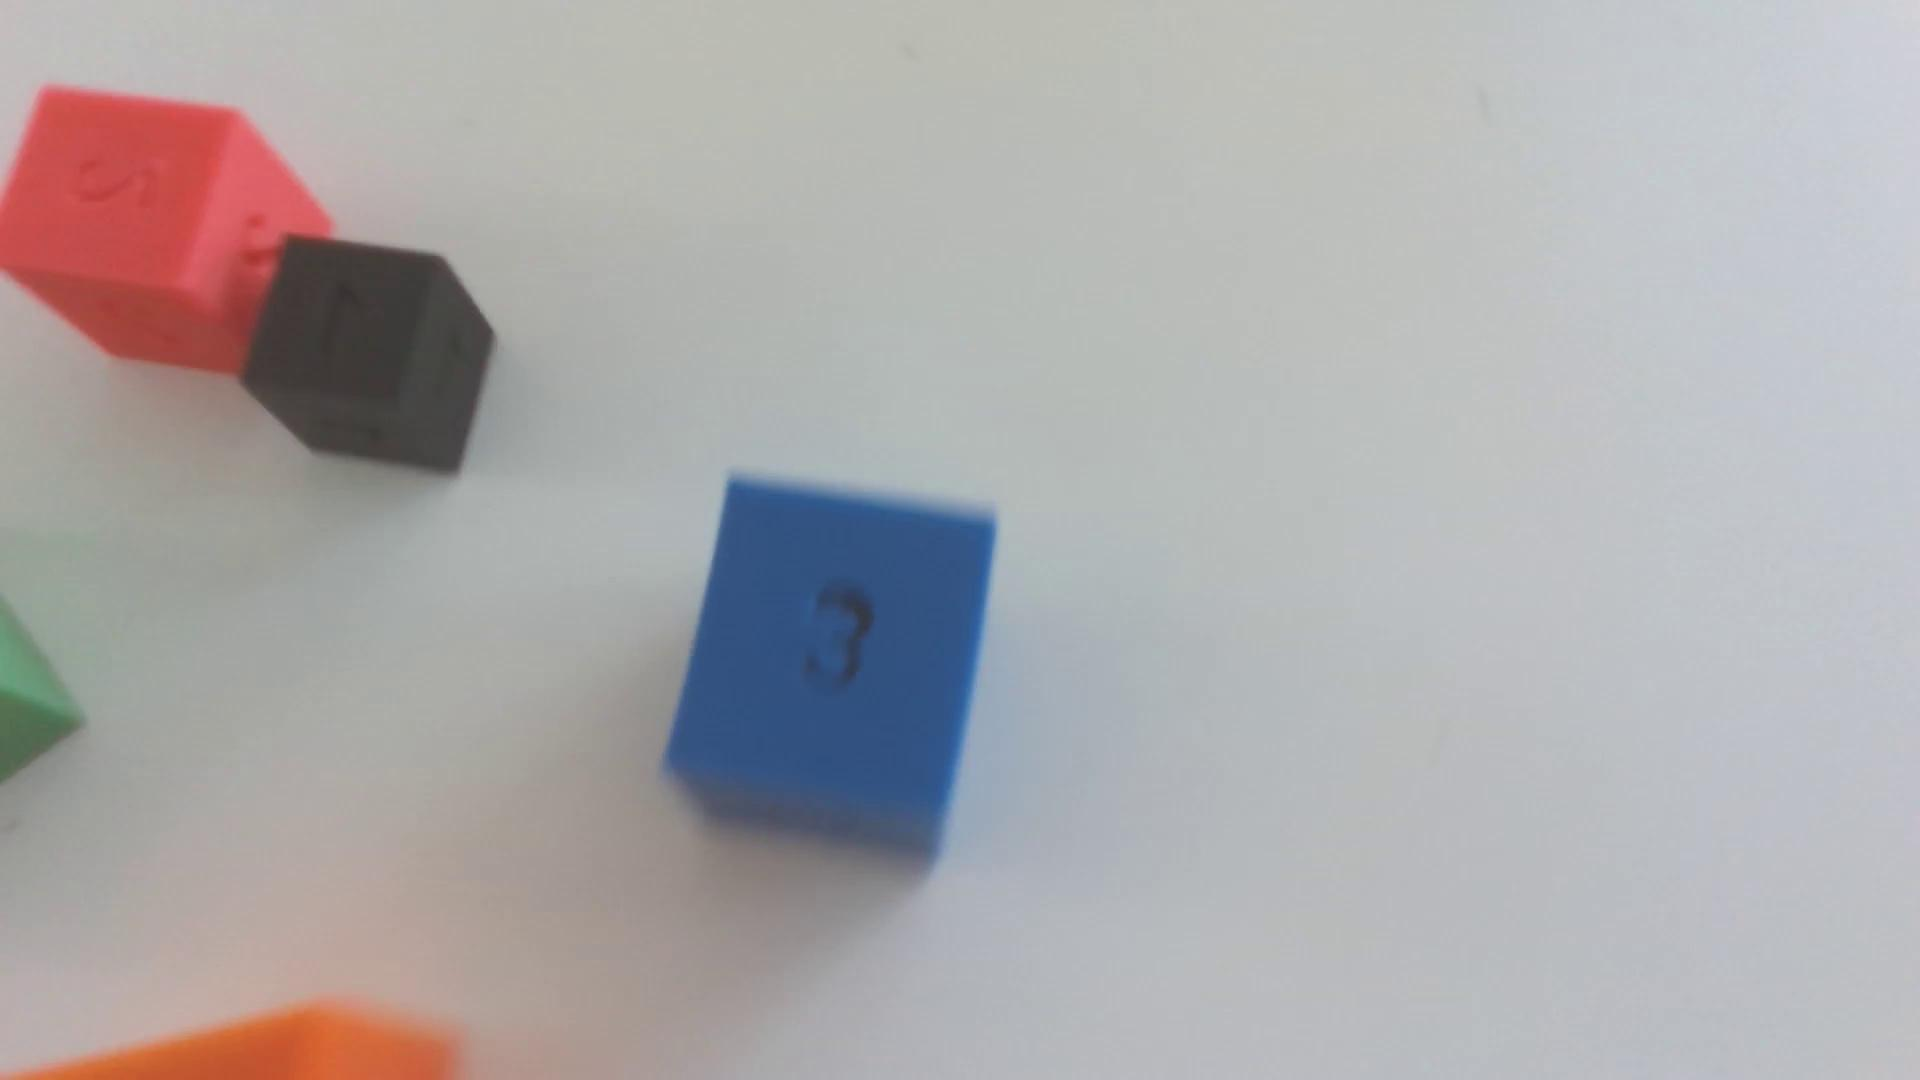black: (243, 237, 496, 476)
blue: (665, 477, 996, 862)
green: (0, 601, 82, 783)
orange: (11, 1004, 460, 1080)
red: (0, 88, 334, 377)
